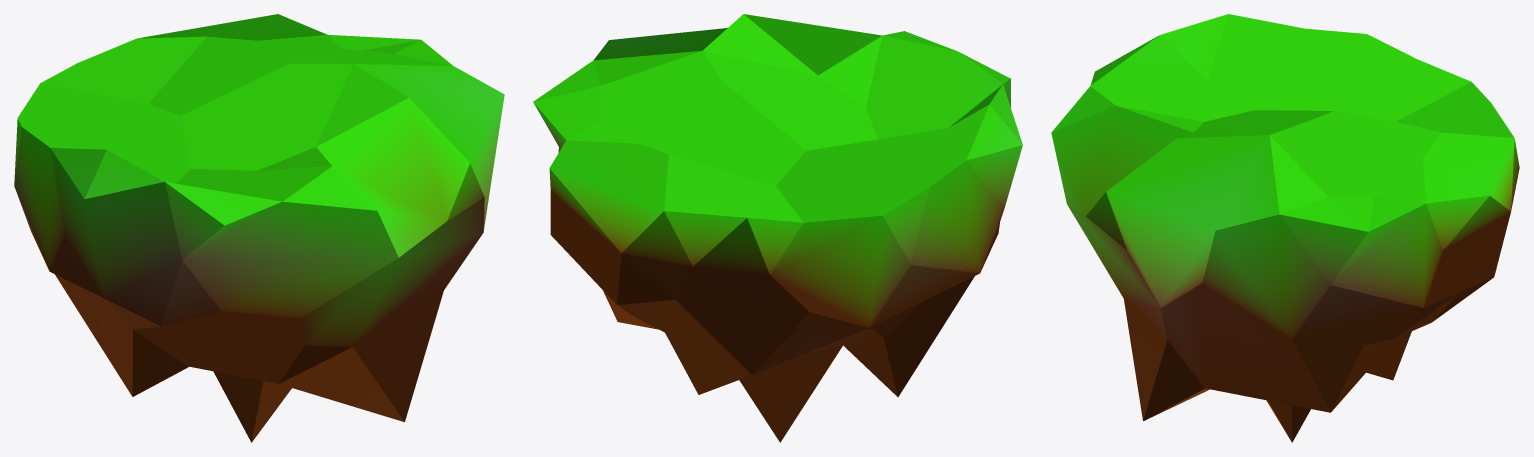
The model's file is FloatingIsland_1.glb.
3 renders of one model, left to right at view 1: azimuth 30°, elevation 25°; view 2: azimuth 150°, elevation 25°; view 3: azimuth 270°, elevation 25°, orthographic. The views are drawn at different scales.
Parts seen in each view (by area): view 1: Icosphere; view 2: Icosphere; view 3: Icosphere.
Part boxes in pixels (x1,y1,x2,y2): Icosphere: (14,14,504,442); Icosphere: (533,14,1022,442); Icosphere: (1051,14,1519,442).
Size of the model in its own units: 1.86 by 1.55 by 1.88.
